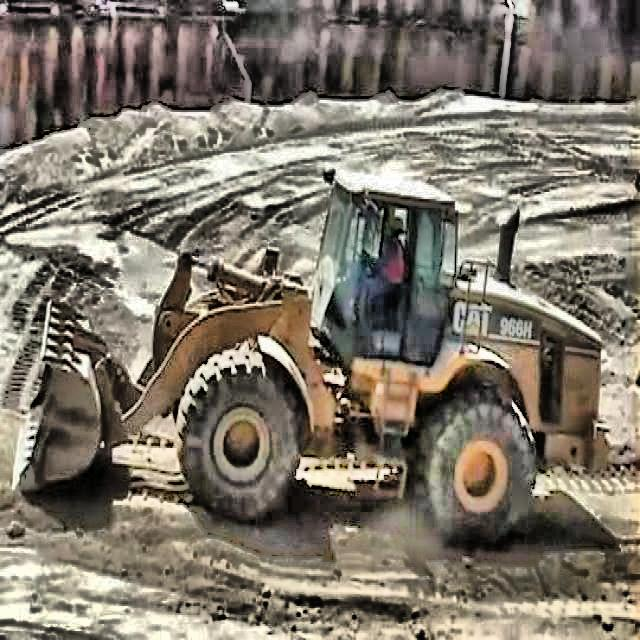bull_dozer/loader/grader: (9, 167, 610, 548)
